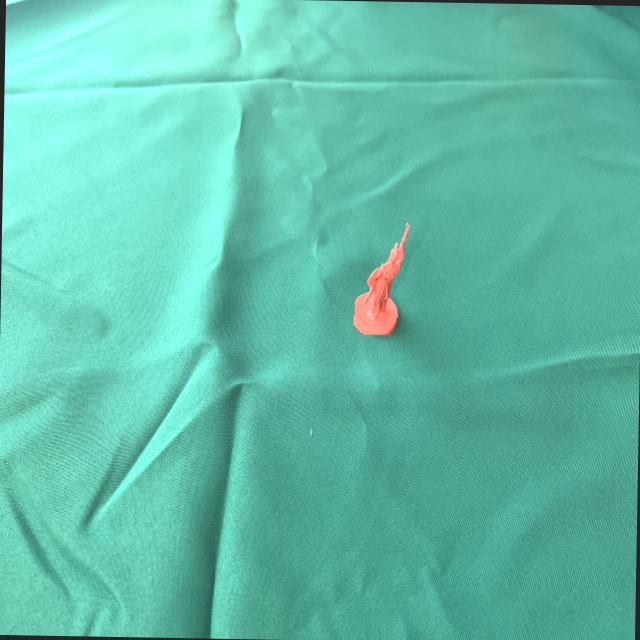amon_follower: (354, 224, 410, 334)
